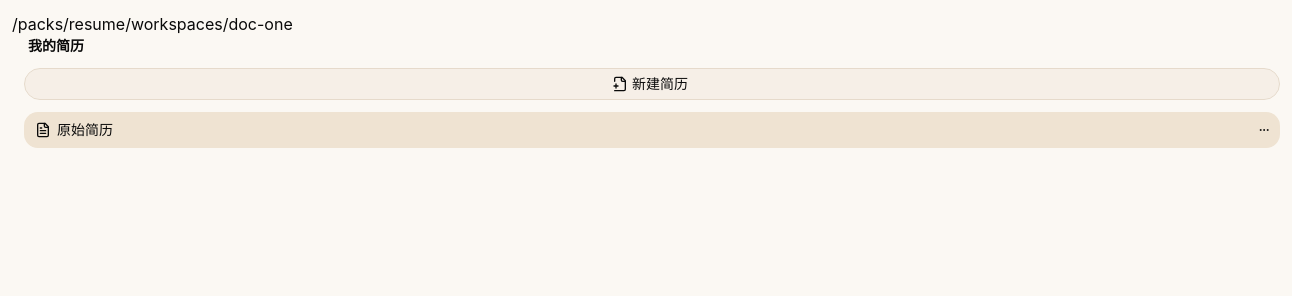
Test case: ResumeDocumentList actions › keeps the original if migration cannot be safely saved
Press ArrowDown in the button named "管理简历 原始简历", box [1252, 118, 1276, 142]
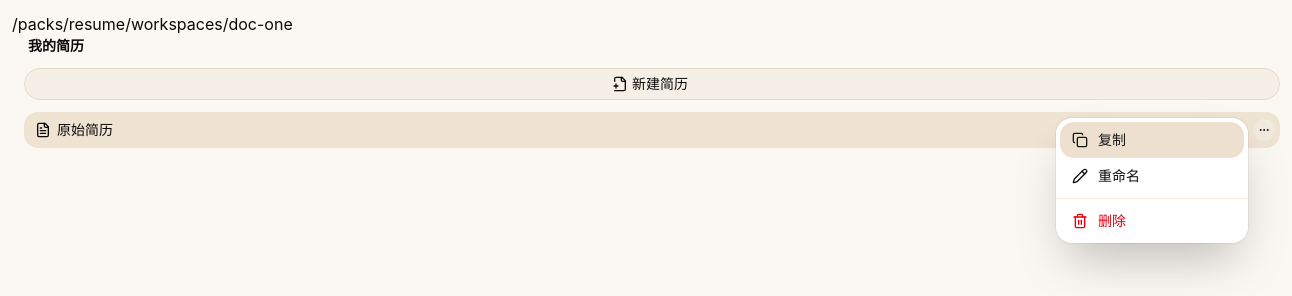
Click the menu item "复制". click: (1152, 140)
box: [1060, 122, 1244, 158]
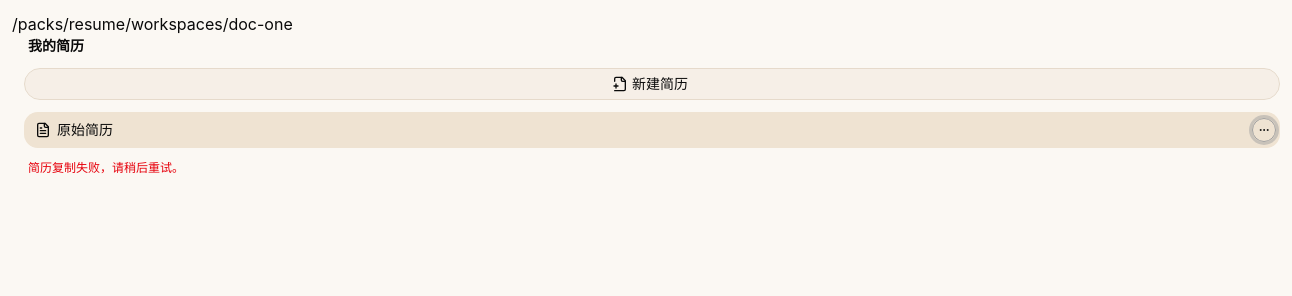
Check: the text with test id "location" shows "/workspaces/doc-one", box [12, 14, 293, 34]
Check: the message shows "简历复制失败", box [28, 160, 184, 175]
